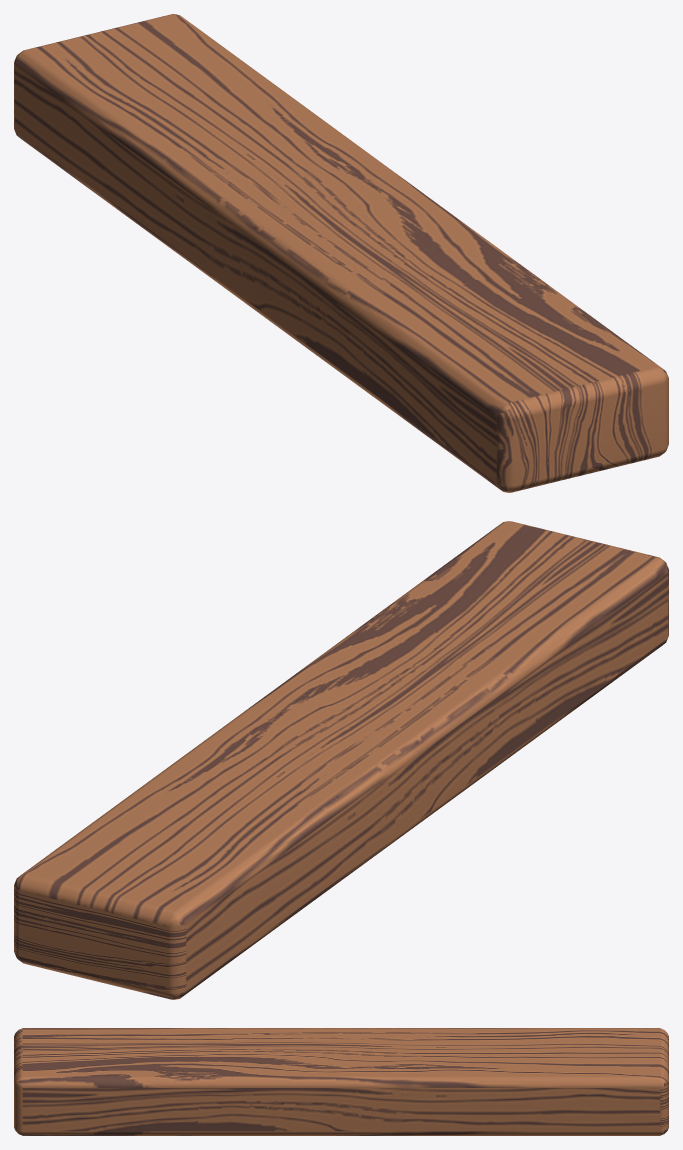
Rendered from BlockModel.fbx.
3 renders of one model, top to bottom at view 1: azimuth 30°, elevation 25°; view 2: azimuth 150°, elevation 25°; view 3: azimuth 270°, elevation 25°, orthographic. The views are drawn at different scales.
Visible parts, largest first — view 1: pCube1; view 2: pCube1; view 3: pCube1.
Part boxes in pixels (x1,y1,x2,y2): pCube1: (14, 14, 668, 492); pCube1: (14, 521, 668, 999); pCube1: (14, 1028, 668, 1135).
Size of the model in its own units: 1 by 0.5 by 5.
